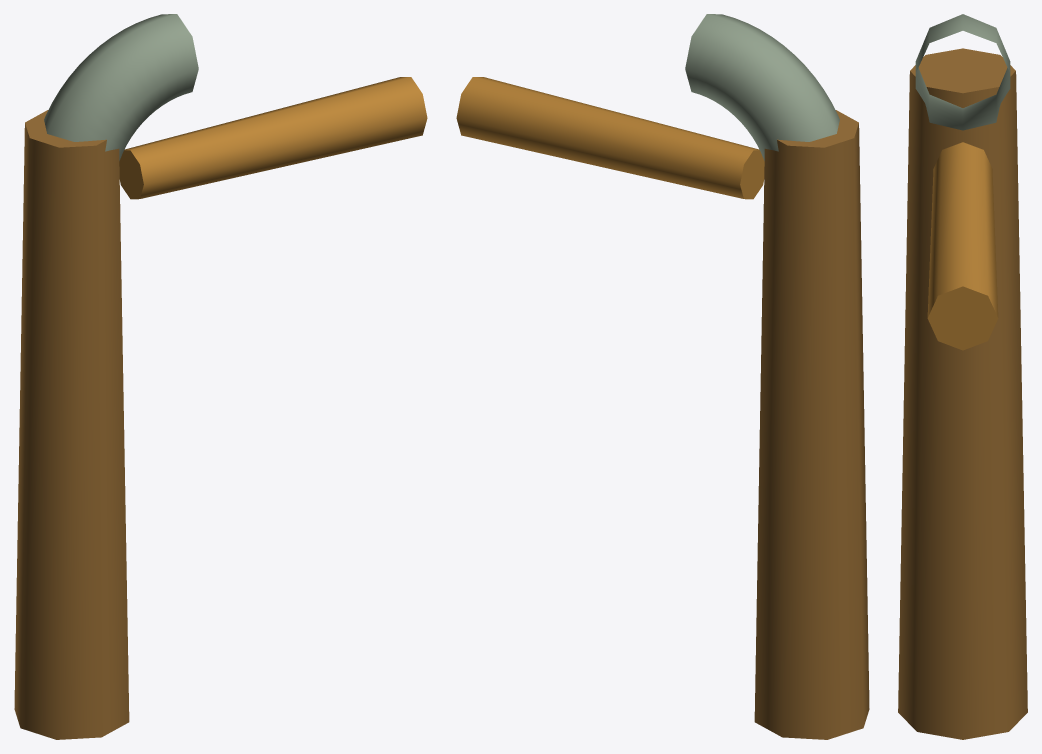
The model's file is steam_pipe_cluster.glb.
3 views of the same model, side by side, from view 1: azimuth 30°, elevation 25°; view 2: azimuth 150°, elevation 25°; view 3: azimuth 270°, elevation 25° (orthographic). The views are drawn at different scales.
Visible parts, largest first — view 1: pipe_main, pipe_outlet, pipe_bend; view 2: pipe_main, pipe_outlet, pipe_bend; view 3: pipe_main, pipe_outlet, pipe_bend.
Boxes of the visible parts, x1,y1,x2,y2 form: pipe_main: [14, 110, 129, 739]; pipe_outlet: [119, 77, 427, 199]; pipe_bend: [44, 14, 198, 160]; pipe_main: [754, 110, 869, 739]; pipe_outlet: [456, 77, 764, 199]; pipe_bend: [685, 14, 839, 160]; pipe_main: [898, 48, 1027, 739]; pipe_outlet: [927, 142, 998, 350]; pipe_bend: [915, 14, 1010, 130].
Size of what is drawn, in the model's own units: 1.67 by 2.76 by 0.44.
